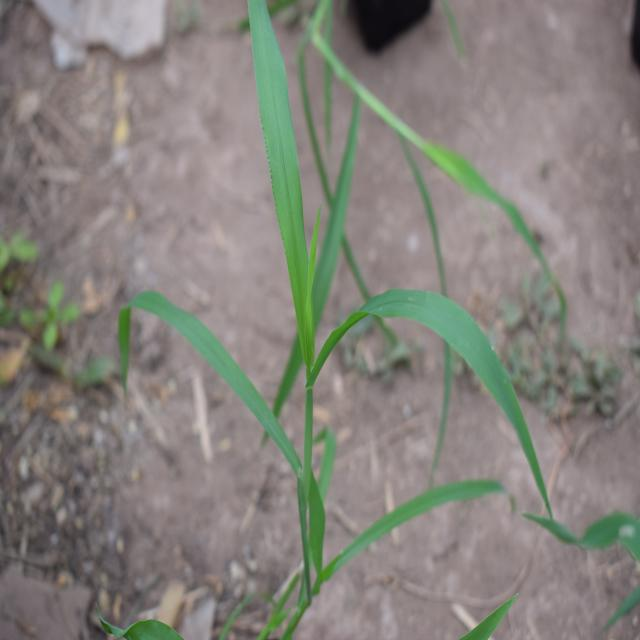crabgrass: (130, 41, 548, 558)
